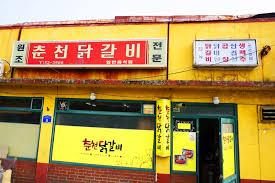galbi: (100, 41, 142, 60), (108, 139, 124, 153)
